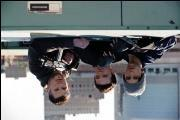gun: (36, 46, 78, 72)
